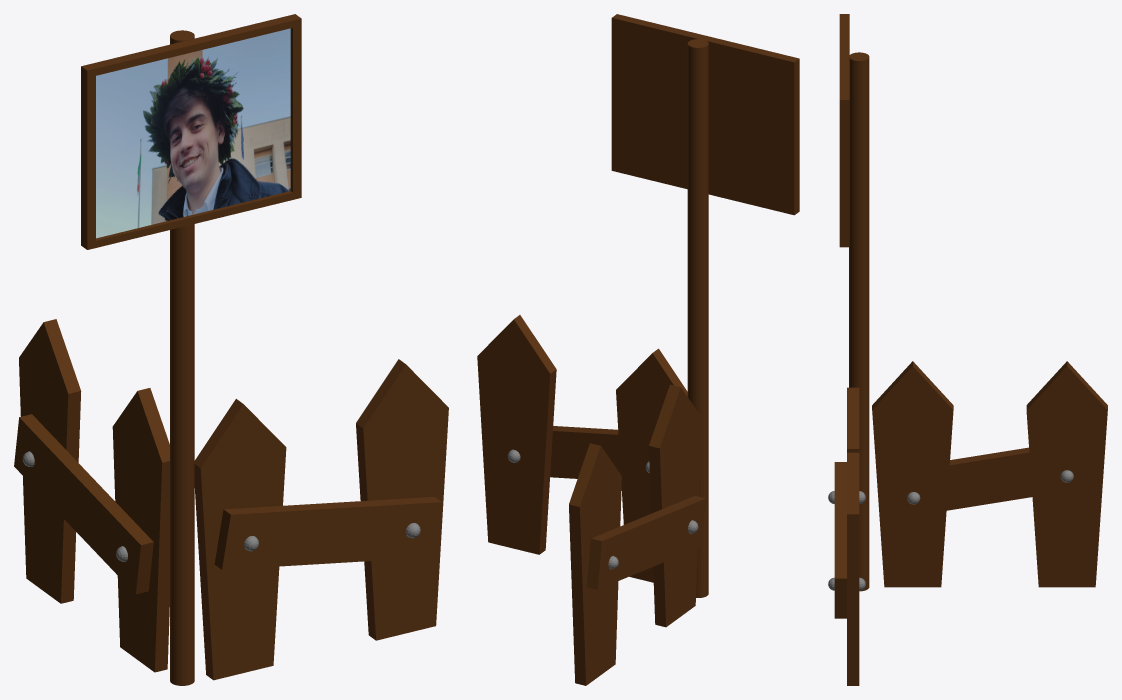
Rendered from FenceAngle.glb.
3 renders of one model, left to right at view 1: azimuth 30°, elevation 25°; view 2: azimuth 150°, elevation 25°; view 3: azimuth 270°, elevation 25°, orthographic. The views are drawn at different scales.
Visible parts, largest first — view 1: Fence.001; view 2: Fence.001; view 3: Fence.001.
Boxes of the visible parts, box(x1,y1,x2,y2) form: Fence.001: box(14, 14, 448, 685); Fence.001: box(477, 14, 799, 685); Fence.001: box(828, 14, 1107, 685).
Size of the model in its own units: 4.19 by 7.06 by 3.37.
Materials: 5 (1 with a texture image).
